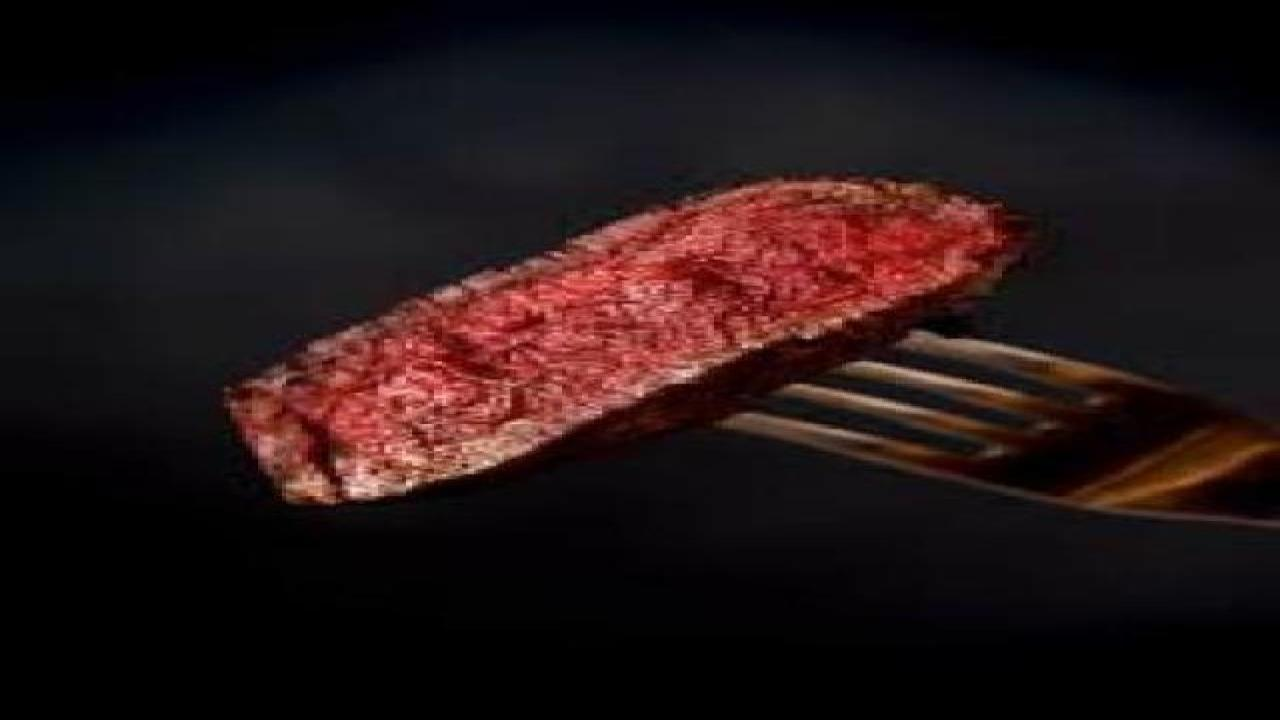Carne: (203, 140, 1094, 563)
